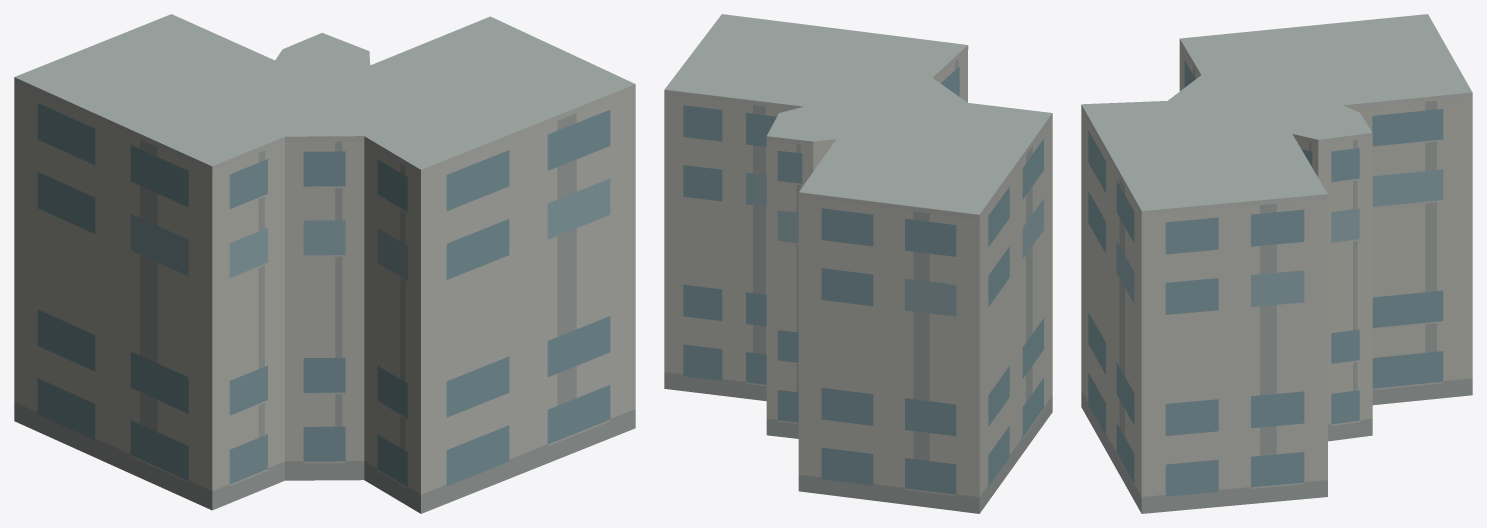
File: survey-upis-32517022.glb
The picture shows the model from 3 angles, left to right: view 1: azimuth 30°, elevation 25°; view 2: azimuth 150°, elevation 25°; view 3: azimuth 270°, elevation 25°; orthographic projection. The views are drawn at different scales.
Visible parts, largest first — view 1: survey-upis-32517022.tmp; view 2: survey-upis-32517022.tmp; view 3: survey-upis-32517022.tmp.
Part boxes in pixels (x1=…): survey-upis-32517022.tmp: x1=14, y1=14, x2=635, y2=513; survey-upis-32517022.tmp: x1=664, y1=14, x2=1052, y2=513; survey-upis-32517022.tmp: x1=1081, y1=14, x2=1472, y2=513.
Size of the model in its own units: 21.3 by 15.25 by 17.87.
